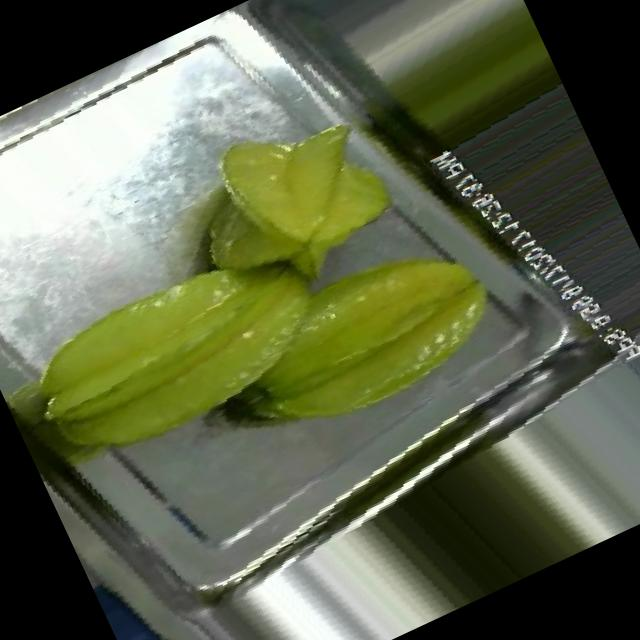fruit: (152, 152, 550, 510), (0, 179, 385, 529), (140, 59, 442, 347)
